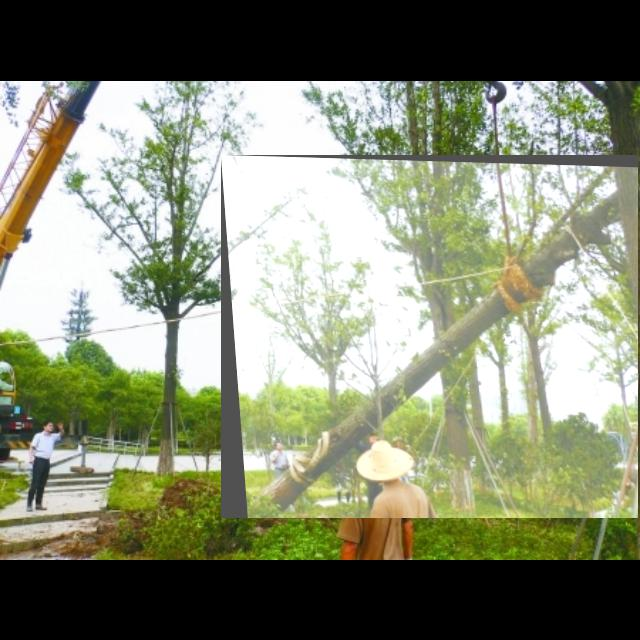Fallen Tree: (221, 155, 639, 519)
